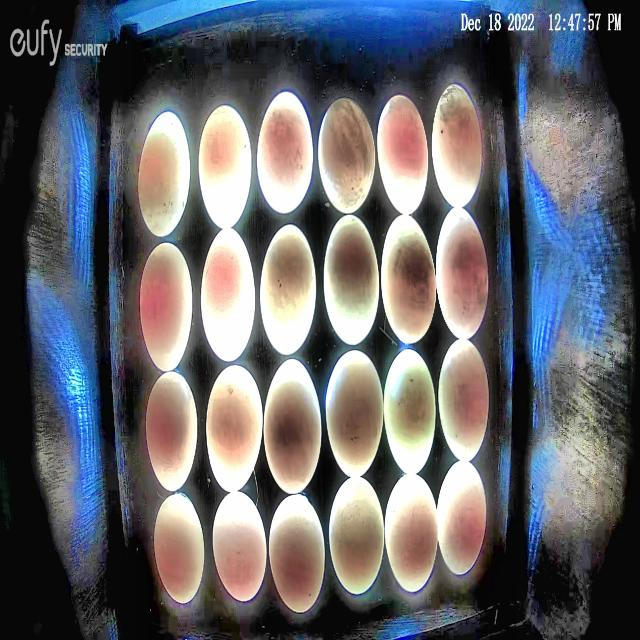UF: (262, 356, 322, 496), (259, 222, 318, 358), (325, 349, 385, 478), (205, 362, 263, 493), (323, 214, 380, 347), (138, 240, 194, 372), (201, 228, 256, 362), (436, 205, 490, 341), (381, 214, 437, 344), (256, 89, 314, 214), (382, 347, 437, 476), (317, 96, 377, 214), (268, 492, 326, 614), (328, 475, 386, 596), (138, 110, 192, 238), (199, 105, 252, 231), (438, 336, 490, 463), (384, 473, 439, 593), (145, 371, 198, 493), (212, 489, 268, 603), (432, 81, 482, 208), (377, 93, 429, 215), (153, 492, 206, 604), (437, 460, 487, 576)
